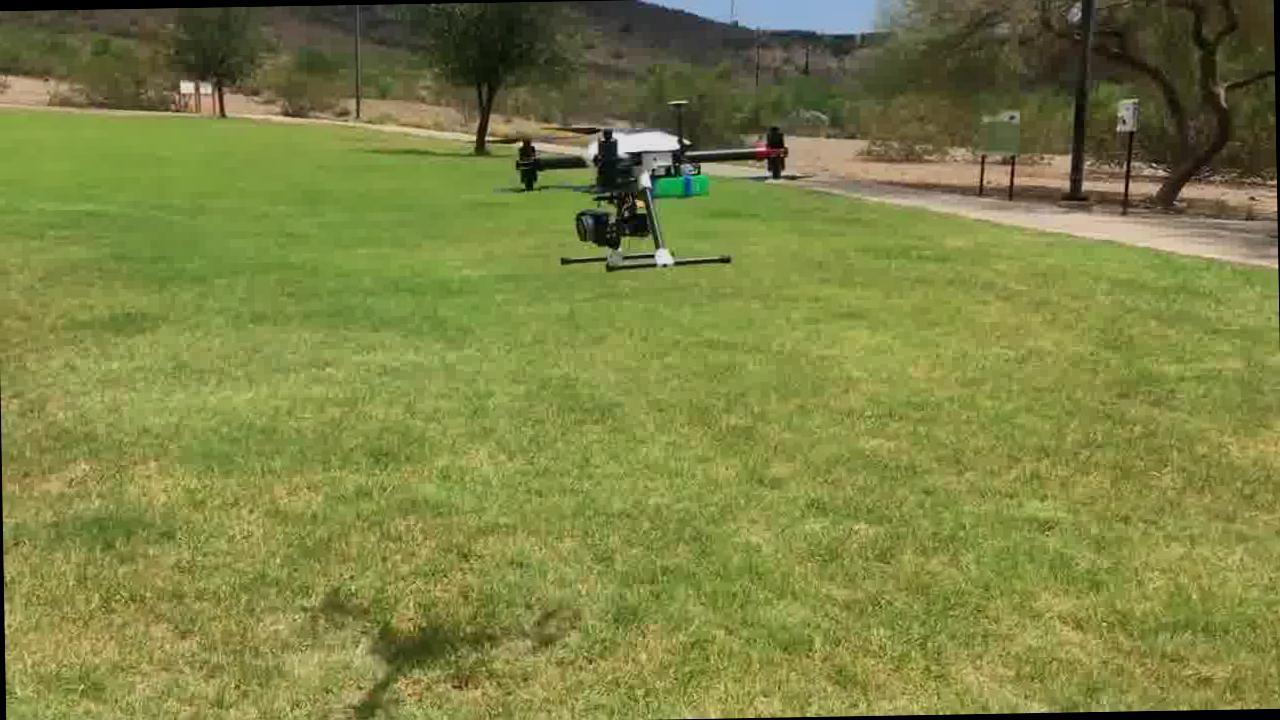drone: (466, 96, 826, 275)
